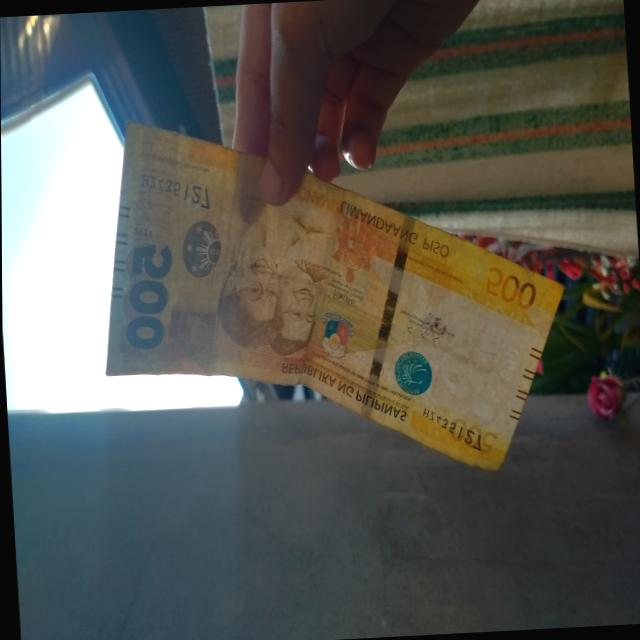concealed_value: (154, 301, 222, 378)
optically_variable_device: (175, 207, 232, 292)
security_thread: (345, 199, 427, 413)
see_through_mark: (456, 284, 530, 333)
serial_number: (408, 388, 492, 462), (126, 164, 221, 215)
value: (123, 238, 183, 360)
watermark: (424, 312, 515, 428)
